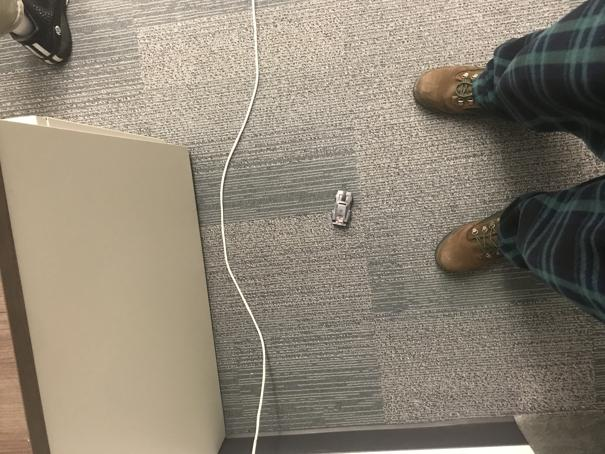Charger: (330, 189, 354, 231)
